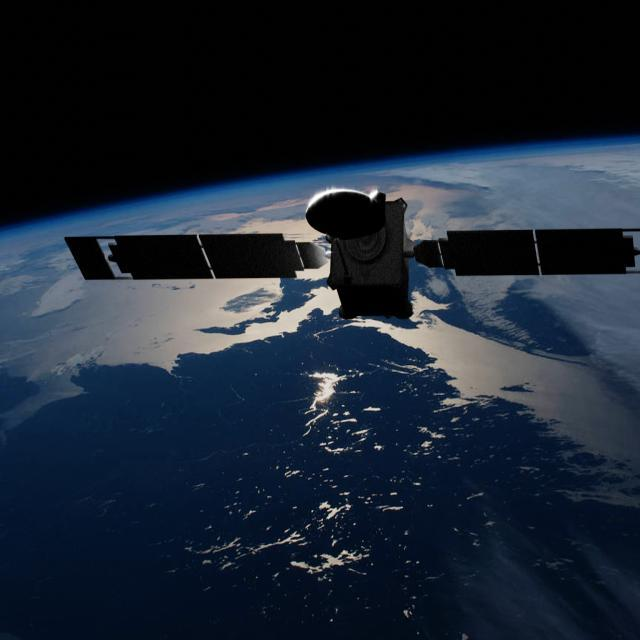satellite: (43, 168, 640, 310)
